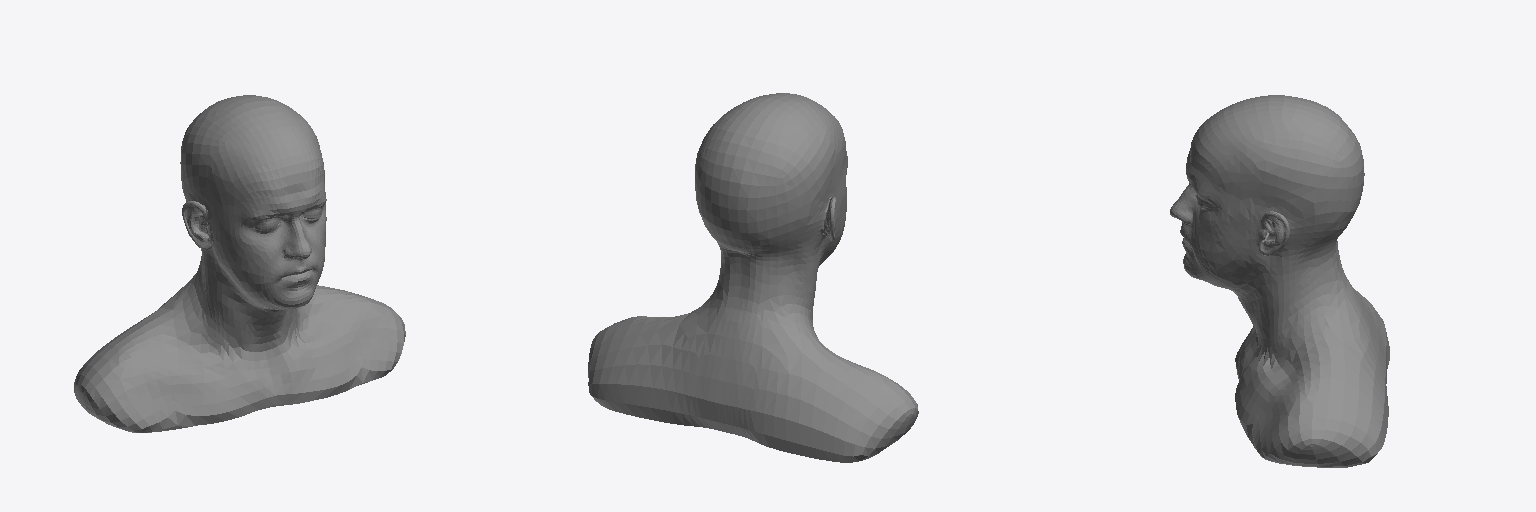
Rendered from head.obj.
The picture shows the model from 3 angles: view 1: azimuth 30°, elevation 25°; view 2: azimuth 150°, elevation 25°; view 3: azimuth 270°, elevation 25°; orthographic projection.
Parts seen in each view (by area): view 1: Group2, Group19, Group14, Group4, Group5; view 2: Group2, Group4, Group19, Group5; view 3: Group2, Group19, Group14, Group4, Group5.
Boxes of the visible parts, box(x1,y1,x2,y2) form: Group2: box(76, 95, 403, 432); Group19: box(205, 144, 326, 277); Group14: box(214, 236, 325, 309); Group4: box(74, 315, 405, 432); Group5: box(182, 194, 213, 249); Group2: box(588, 93, 914, 456); Group4: box(588, 331, 918, 462); Group19: box(826, 109, 847, 218); Group5: box(817, 187, 835, 240); Group2: box(1210, 95, 1389, 459); Group19: box(1170, 116, 1266, 244); Group14: box(1182, 226, 1264, 288); Group4: box(1265, 430, 1376, 467); Group5: box(1254, 203, 1296, 255).
Size of the model in its own units: 11.71 by 10.88 by 7.1.